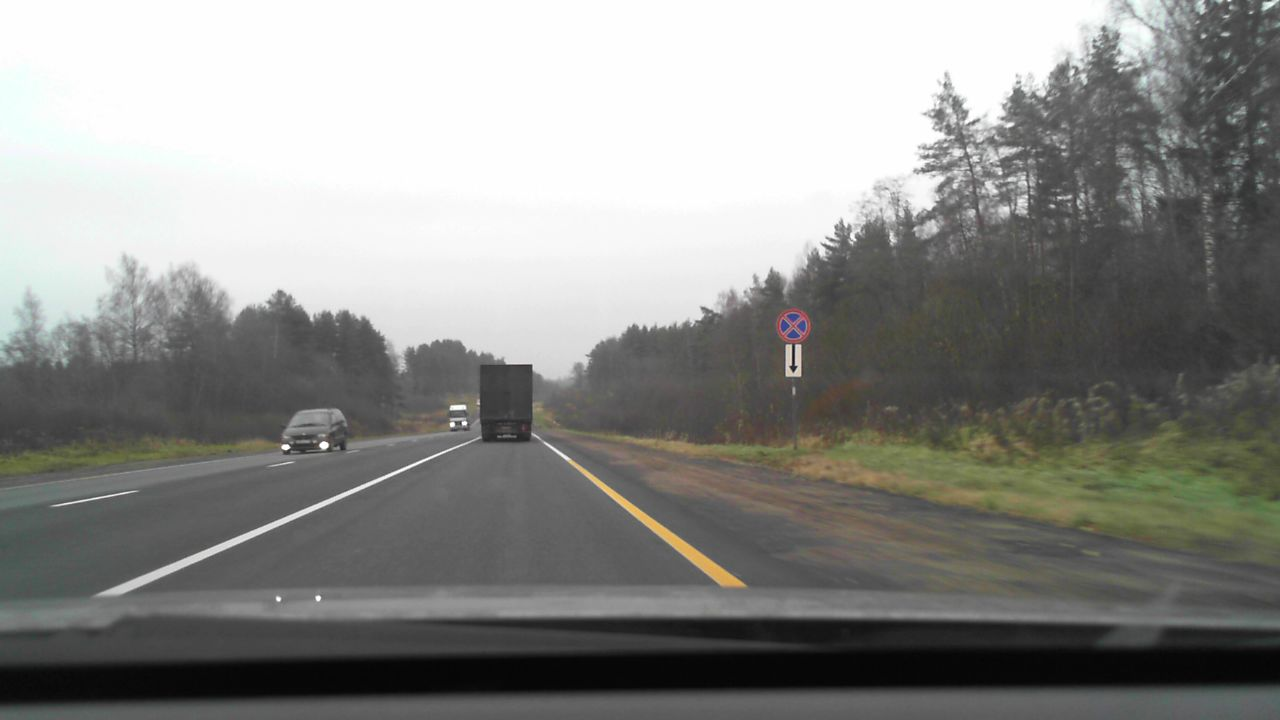No Parking: (776, 308, 811, 343)
